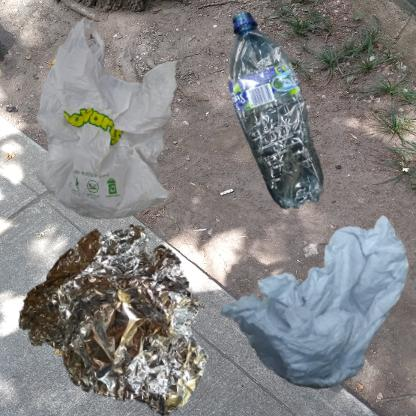aluminio: (10, 213, 223, 416)
bolsa: (10, 10, 228, 259)
botella: (213, 10, 347, 223)
papel: (213, 213, 416, 398)
